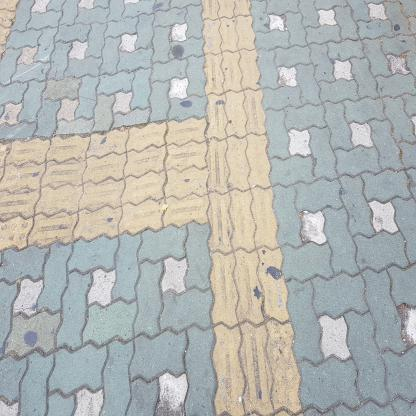podotacti: (198, 0, 305, 415), (0, 109, 208, 248)
